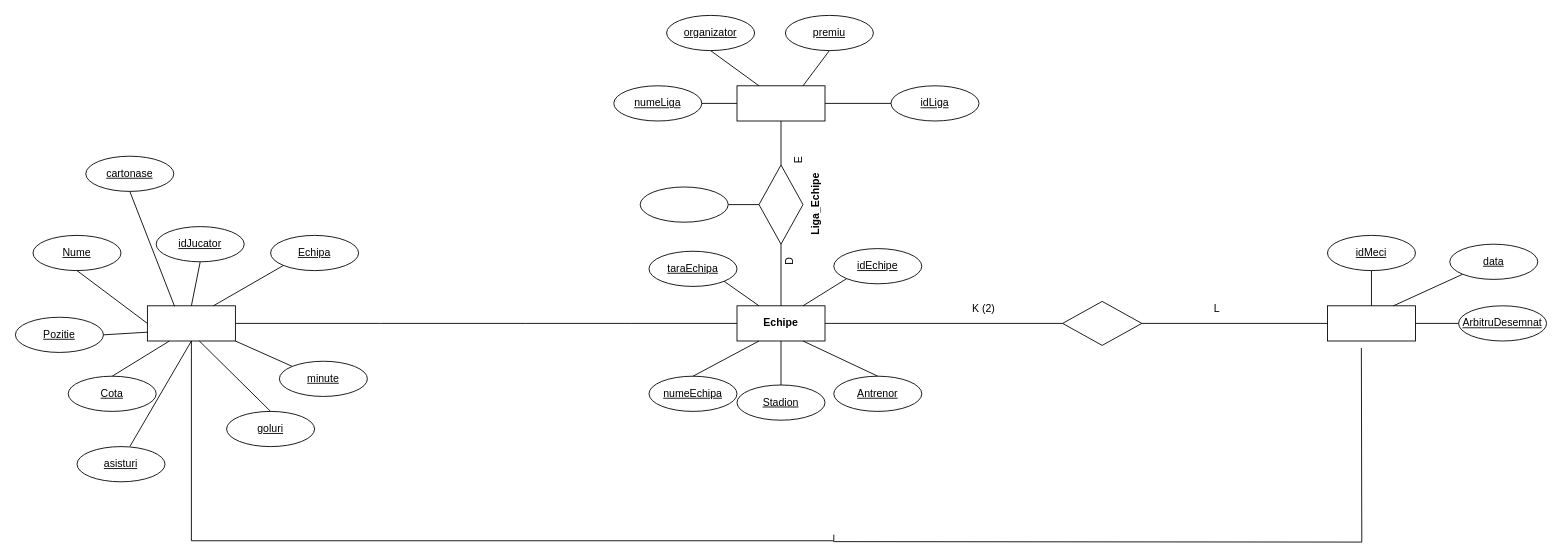
Some shapes in this 1562 by 559 pixel diagram are drawn without their labels. The shapes that lost their labels are listed below. From the top down, each one's centre as x and y in pixels, then its label:
(780,103): Ligi
(683,204): pozitieClasament
(191,323): Jucatori
(1102,323): Echipe_Meci
(1371,323): Meciuri
